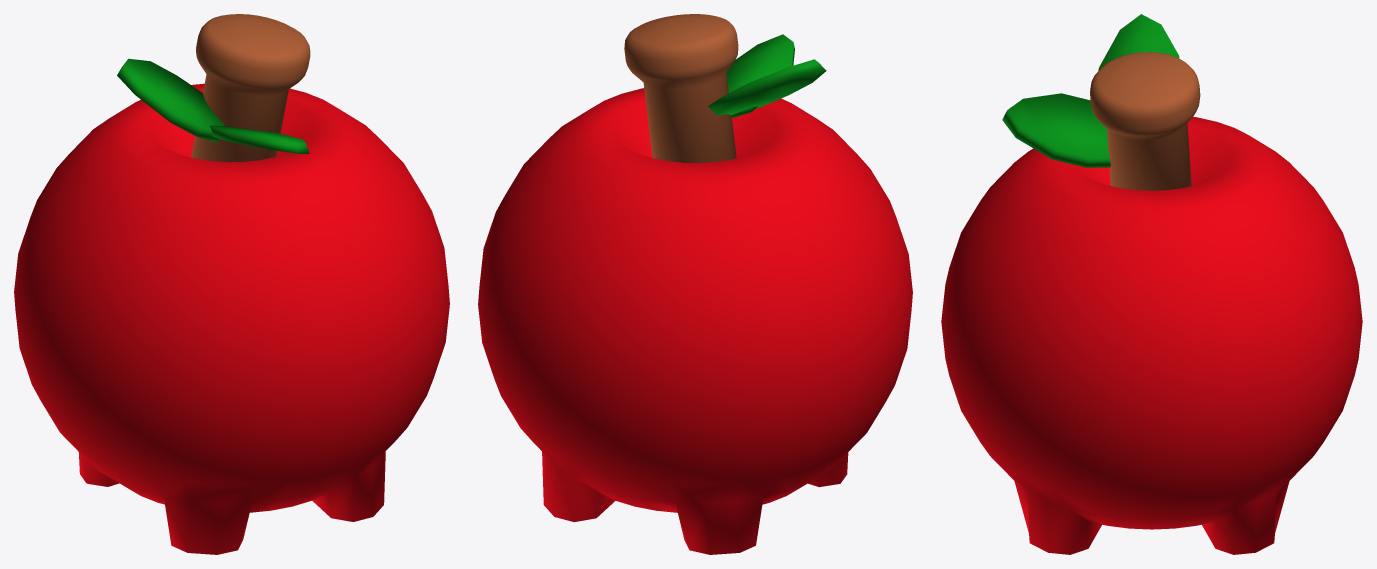
File: OneSexyApple.fbx
The picture shows the model from 3 angles, left to right: view 1: azimuth 30°, elevation 25°; view 2: azimuth 150°, elevation 25°; view 3: azimuth 270°, elevation 25°; orthographic projection. The views are drawn at different scales.
Visible parts, largest first — view 1: Sphere, Cylinder, Plane.001, Plane; view 2: Sphere, Cylinder, Plane.001, Plane; view 3: Sphere, Cylinder, Plane, Plane.001.
Part boxes in pixels (<box>): Sphere: <box>14,83,449,554</box>; Cylinder: <box>191,14,310,162</box>; Plane.001: <box>117,58,224,142</box>; Plane: <box>209,125,309,153</box>; Sphere: <box>478,88,912,554</box>; Cylinder: <box>624,14,738,162</box>; Plane.001: <box>708,59,826,115</box>; Plane: <box>726,34,794,118</box>; Sphere: <box>941,116,1362,554</box>; Cylinder: <box>1090,52,1200,190</box>; Plane: <box>1002,93,1110,167</box>; Plane.001: <box>1098,14,1179,70</box>.
Size of the model in its own units: 200 by 233 by 200.
